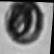correct: (1, 0, 46, 47)
